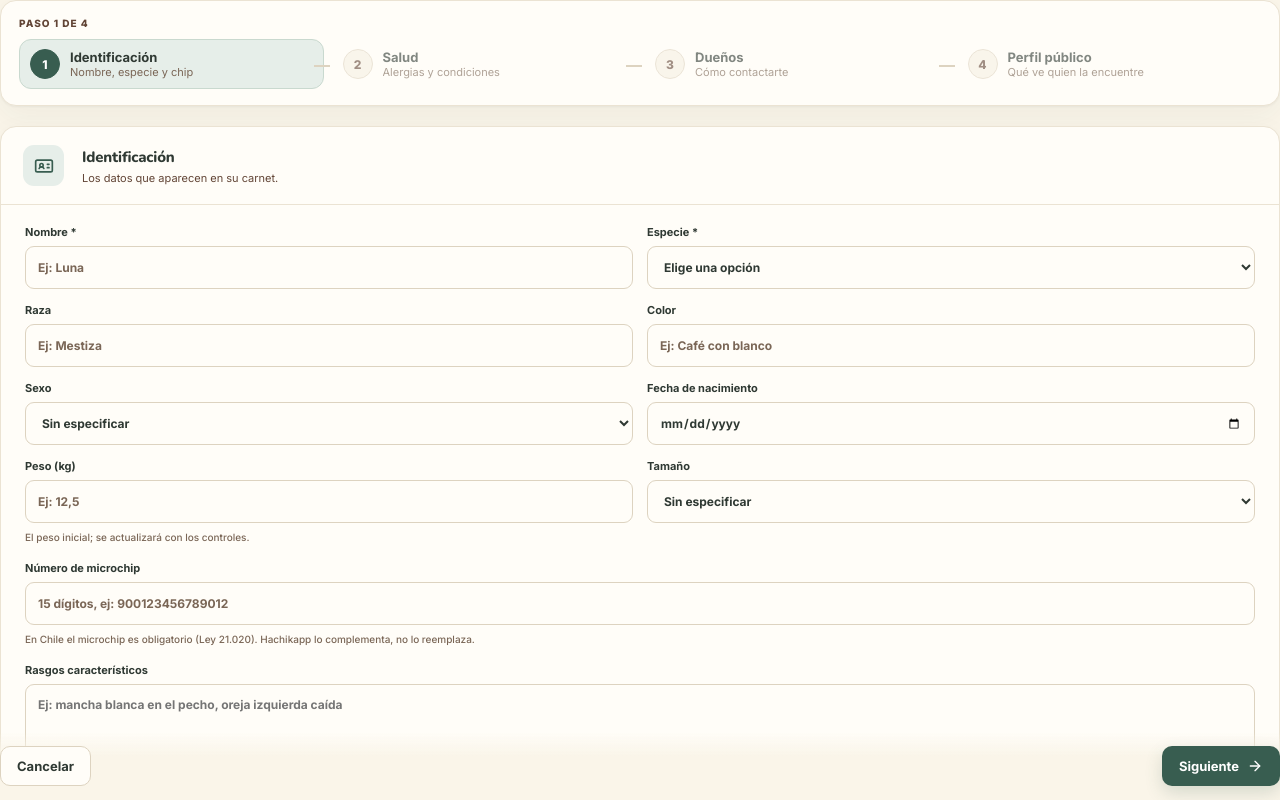
PetForm wizard › advances a single step on a double click
Type "Luna" into the field labelled "Nombre *". click: (329, 268)
box: [25,246,633,289]
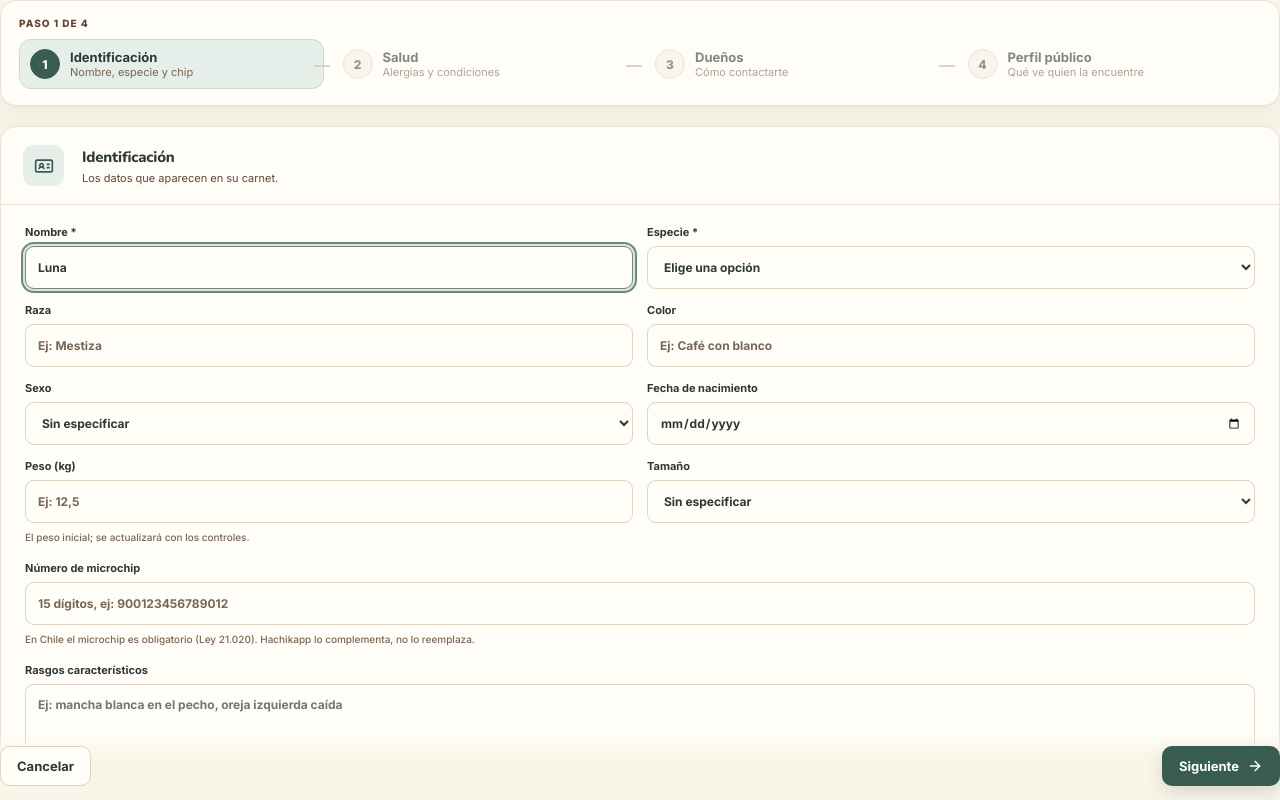
Select "Perro" in the dropdown labelled "Especie *". click: (951, 268)
box: [647,246,1255,289]
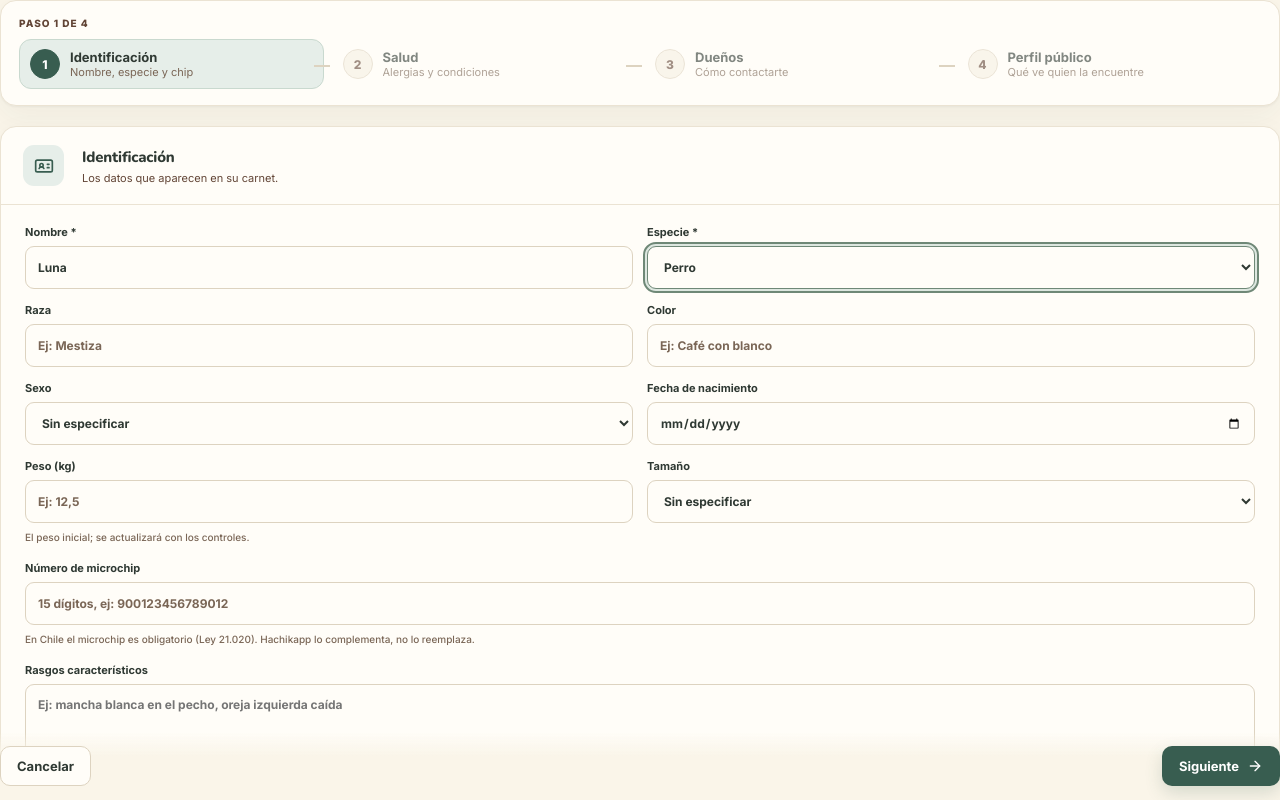
Double-click the button "Siguiente" at (1221, 766), box [1162,746,1279,786]
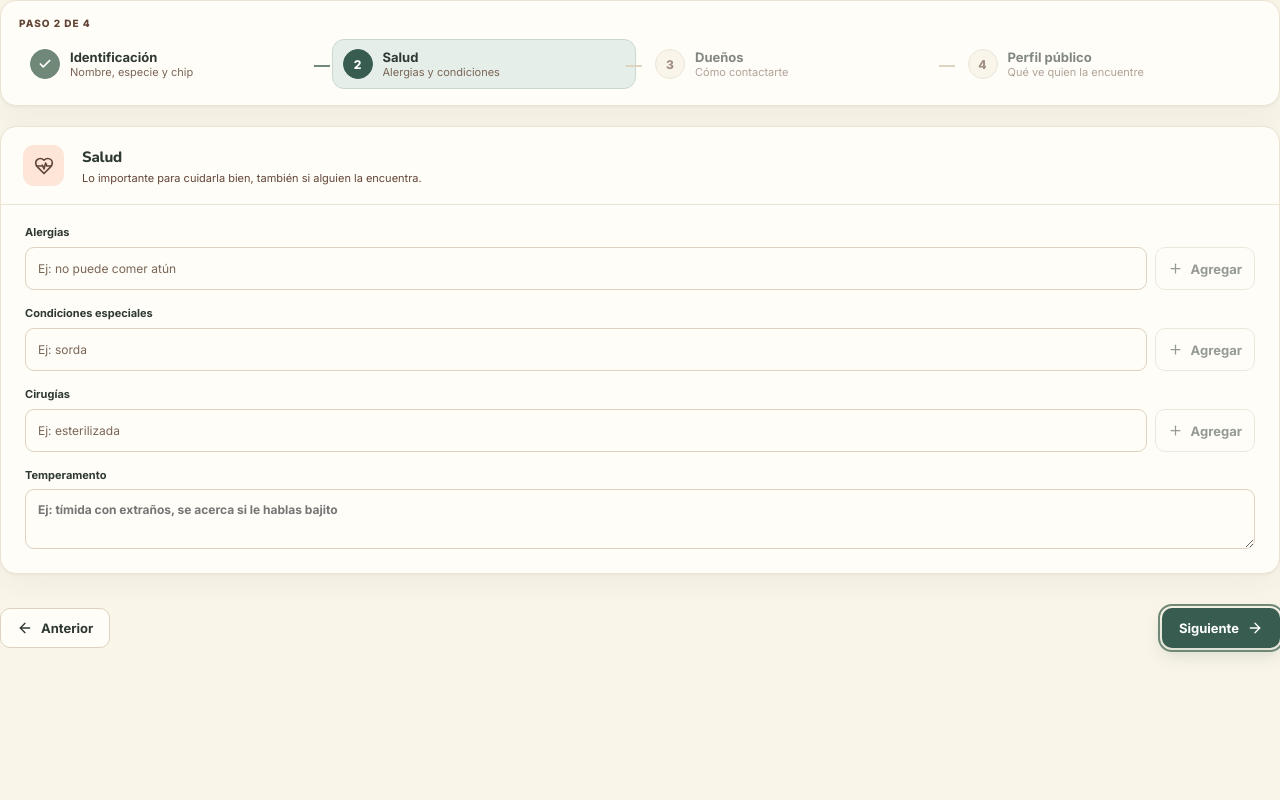
expect the text "Paso 2 de 4" is shown: met, box [19,17,91,29]
